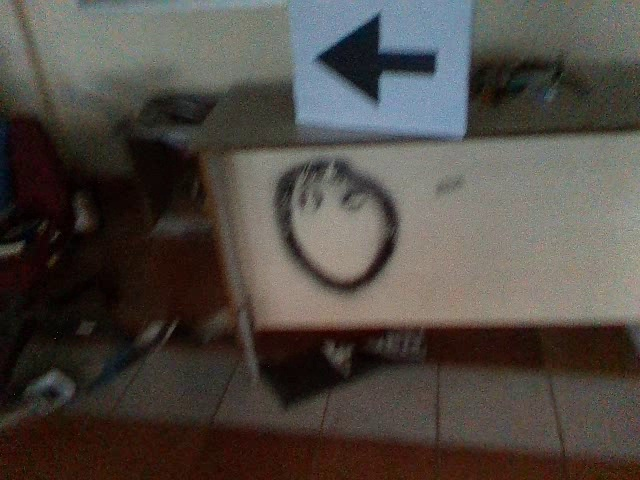Left: (306, 6, 447, 117)
